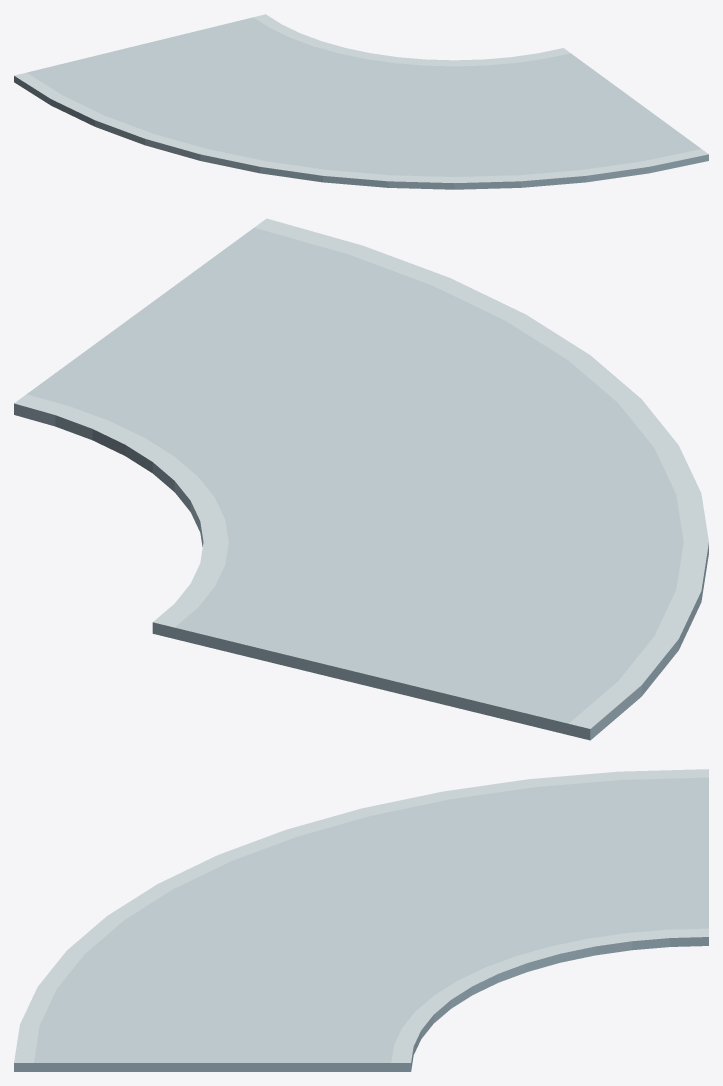
File: campus_walk_bend_v01.glb
3 renders of one model, top to bottom at view 1: azimuth 30°, elevation 25°; view 2: azimuth 150°, elevation 25°; view 3: azimuth 270°, elevation 25°, orthographic. The views are drawn at different scales.
Visible parts, largest first — view 1: campus_walk_bend; view 2: campus_walk_bend; view 3: campus_walk_bend.
Boxes of the visible parts, left/top/right/bottom form: campus_walk_bend: left=14, top=14, right=708, bottom=189; campus_walk_bend: left=14, top=218, right=708, bottom=740; campus_walk_bend: left=14, top=769, right=708, bottom=1071.
Bounding box in the file's own units: 5.6 × 0.08 × 5.6.
1 material, 1 textured.
